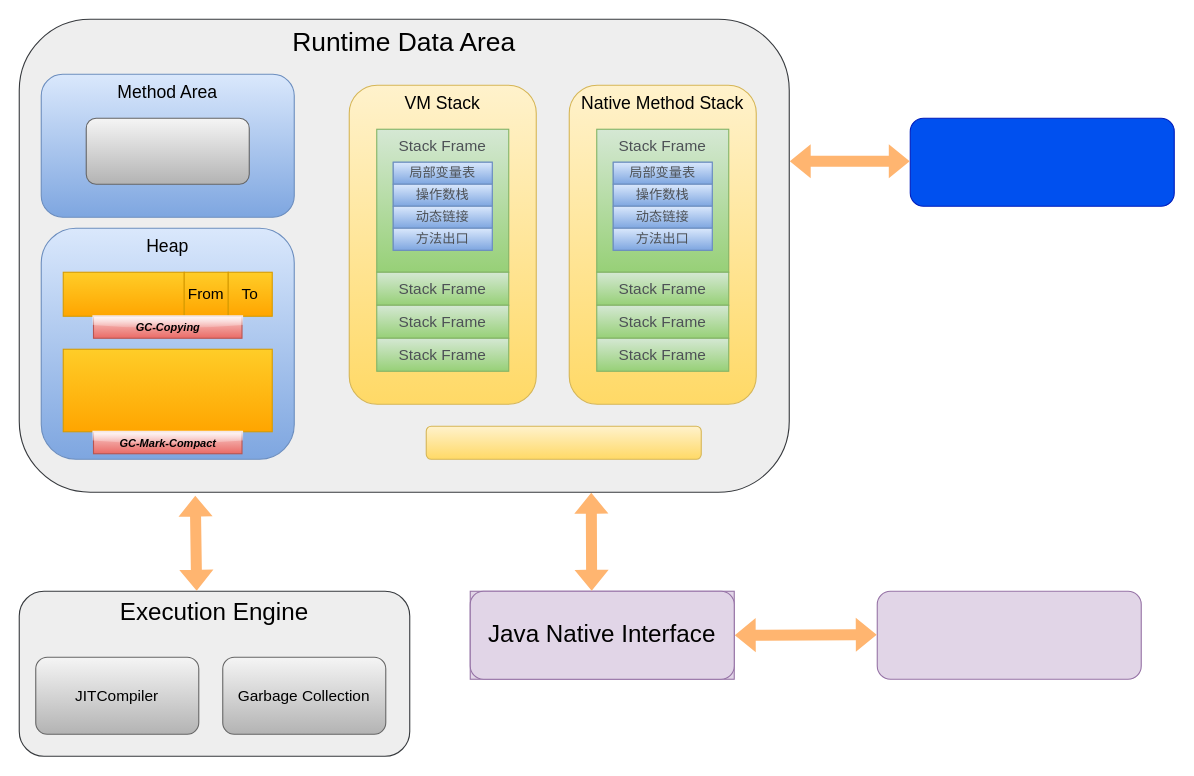
This 1194x776 diagram has some shape labels left out. Each missing label, with the centre of its shape:
Class Loader Subsystem: the point at 1041,161
Constant Pool: the point at 167,150
Eden: the point at 123,293
Java Native Libraries: the point at 1008,634
Old: the point at 167,390
Program Counter Register: the point at 563,442
